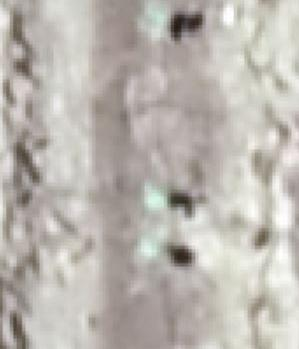cotton: (139, 235, 167, 258), (149, 9, 170, 31), (148, 184, 169, 206)
